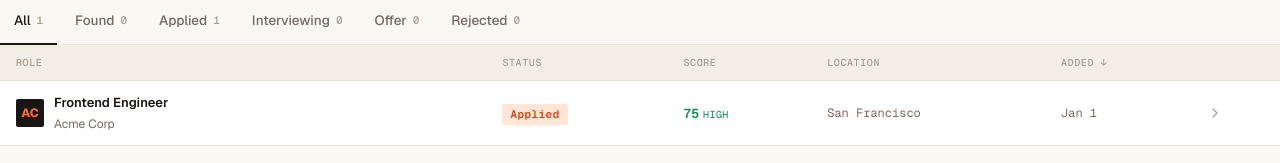
Test: ApplicationsTable › toggles sort direction when clicking the active sort column
Click the column heading "Role" at {"x": 243, "y": 63}, box [0,45,486,81]
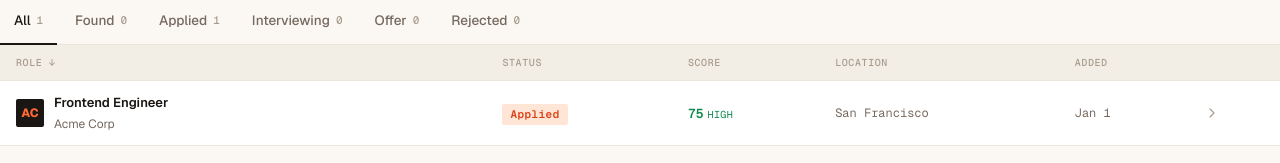
Check: the column heading "Role ↓" is shown
Click the column heading "Role ↓" at {"x": 243, "y": 63}, box [0,45,486,81]
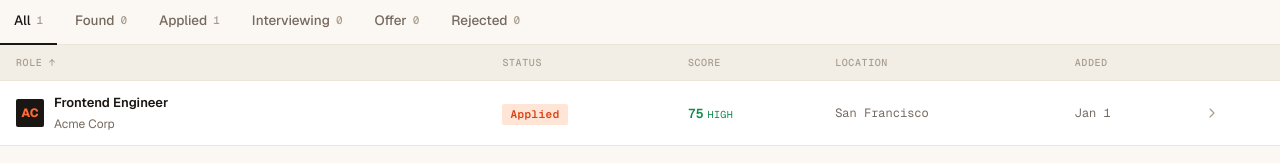
Check: the column heading "Role ↑" is shown, box [0,45,486,81]
